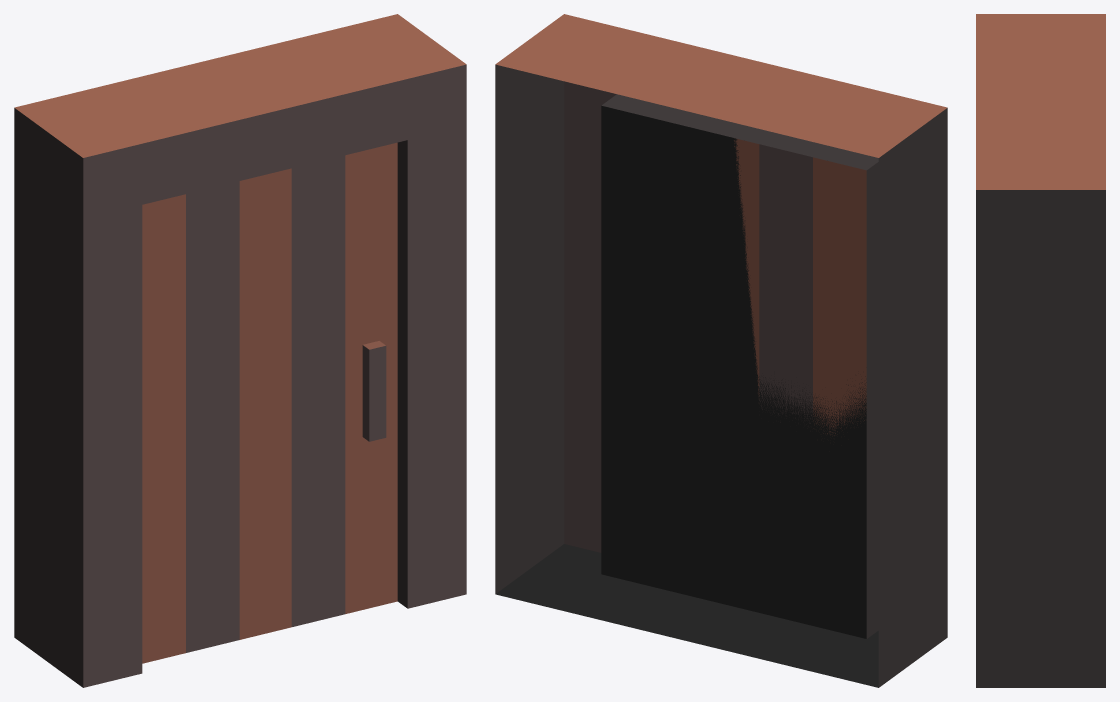
Rendered from TB_D_Bd_Sqr_DoorSet_B.FBX.
3 renders of one model, left to right at view 1: azimuth 30°, elevation 25°; view 2: azimuth 150°, elevation 25°; view 3: azimuth 270°, elevation 25°, orthographic. The views are drawn at different scales.
Visible parts, largest first — view 1: TB_D_Bd_Sqr_DoorSet_B, TB_D_Bd_Sqr_Door_B; view 2: TB_D_Bd_Sqr_DoorSet_B, TB_D_Bd_Sqr_Door_B; view 3: TB_D_Bd_Sqr_DoorSet_B.
Part boxes in pixels (bbox=[...]): TB_D_Bd_Sqr_DoorSet_B: bbox=[14, 14, 466, 687]; TB_D_Bd_Sqr_Door_B: bbox=[142, 142, 397, 663]; TB_D_Bd_Sqr_DoorSet_B: bbox=[495, 14, 947, 687]; TB_D_Bd_Sqr_Door_B: bbox=[734, 138, 866, 436]; TB_D_Bd_Sqr_DoorSet_B: bbox=[976, 14, 1105, 687].
Size of the model in its own units: 1.3 by 1.71 by 0.4047.
